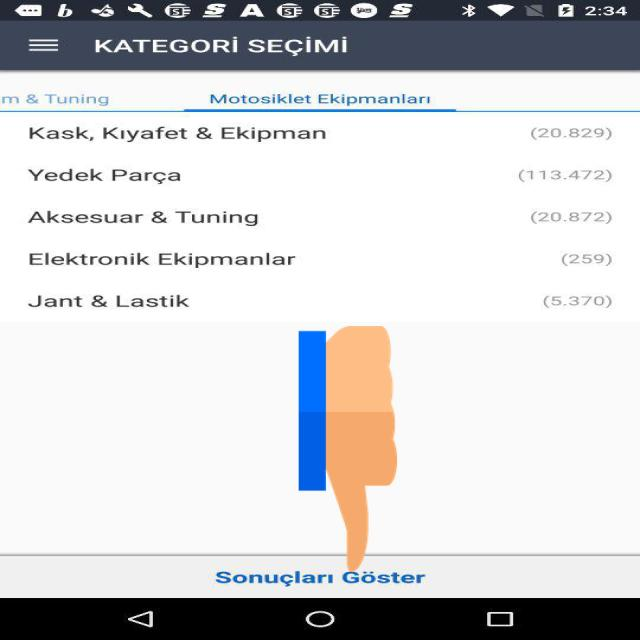obstruction: (299, 320, 397, 578)
